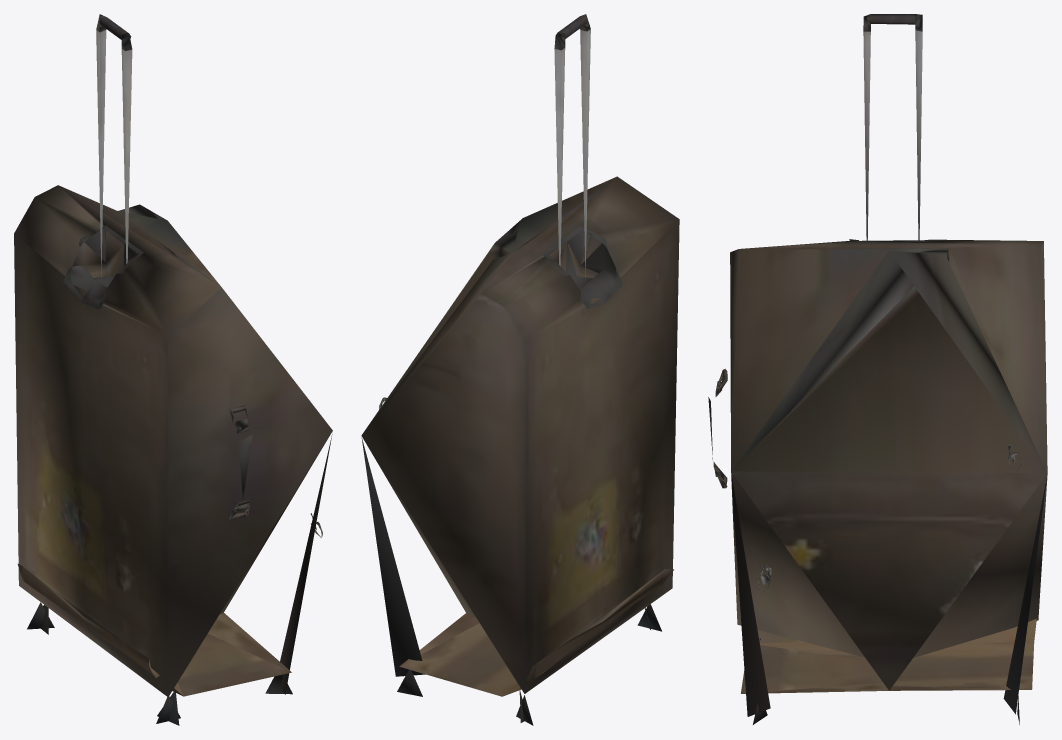
File: suitcase.glb
The picture shows the model from 3 angles, left to right: view 1: azimuth 30°, elevation 25°; view 2: azimuth 150°, elevation 25°; view 3: azimuth 270°, elevation 25°; orthographic projection.
Parts seen in each view (by area): view 1: suitcase; view 2: suitcase; view 3: suitcase.
Boxes of the visible parts, x1,y1,x2,y2 form: suitcase: [14, 14, 332, 725]; suitcase: [361, 14, 679, 725]; suitcase: [708, 14, 1047, 724].
Size of the model in its own units: 0.2126 by 0.7502 by 0.3498.
1 material, 1 textured.
